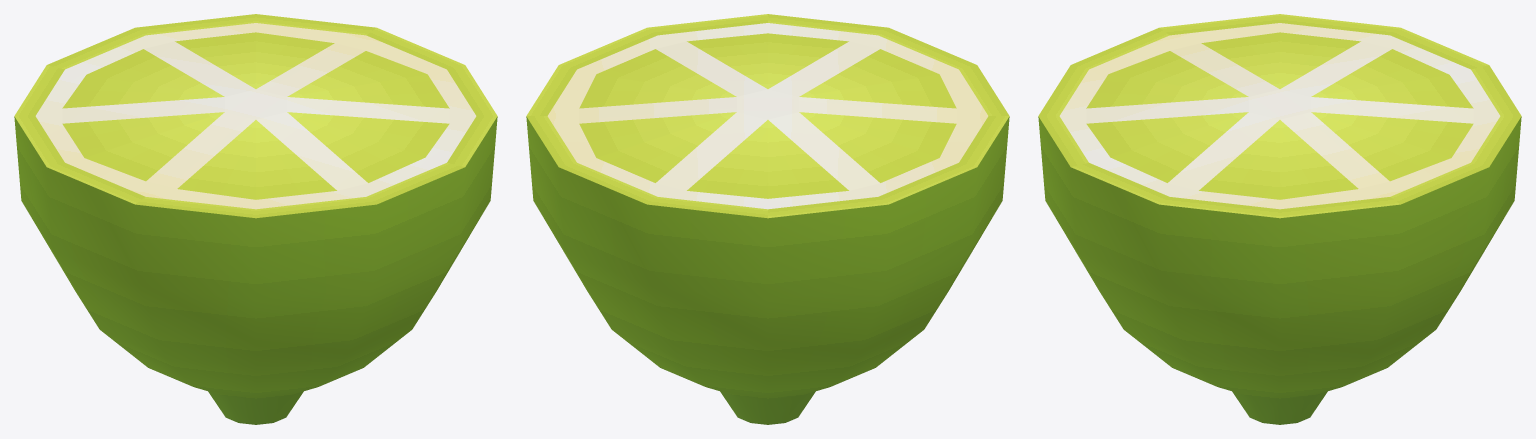
File: lime_cut.glb
3 renders of one model, left to right at view 1: azimuth 30°, elevation 25°; view 2: azimuth 150°, elevation 25°; view 3: azimuth 270°, elevation 25°, orthographic.
Visible parts, largest first — view 1: mesh_lime_cut_01 - Default.001_0; view 2: mesh_lime_cut_01 - Default.001_0; view 3: mesh_lime_cut_01 - Default.001_0.
Boxes of the visible parts, <box> form: mesh_lime_cut_01 - Default.001_0: <box>14,14,497,424</box>; mesh_lime_cut_01 - Default.001_0: <box>526,14,1009,424</box>; mesh_lime_cut_01 - Default.001_0: <box>1038,14,1521,424</box>.
Size of the model in its own units: 115 by 82.98 by 115.
Materials: 1 (1 with a texture image).
